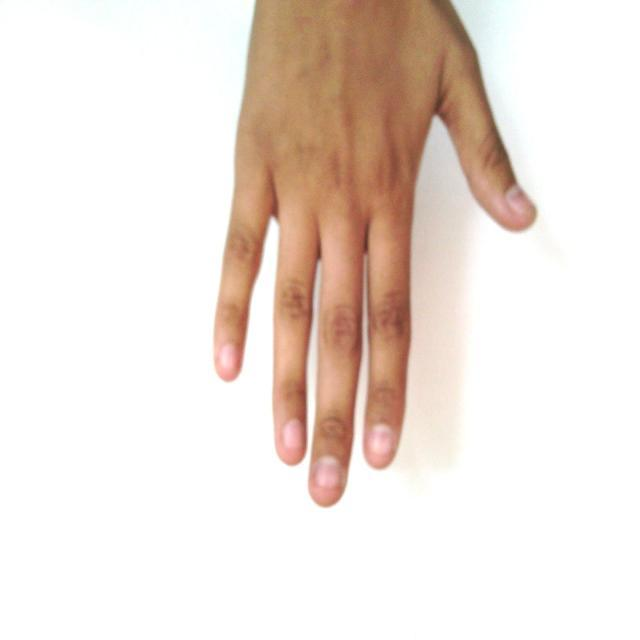Fingernail: (508, 186, 535, 218), (314, 458, 341, 489), (368, 425, 394, 457), (284, 421, 304, 453), (219, 345, 238, 375)
